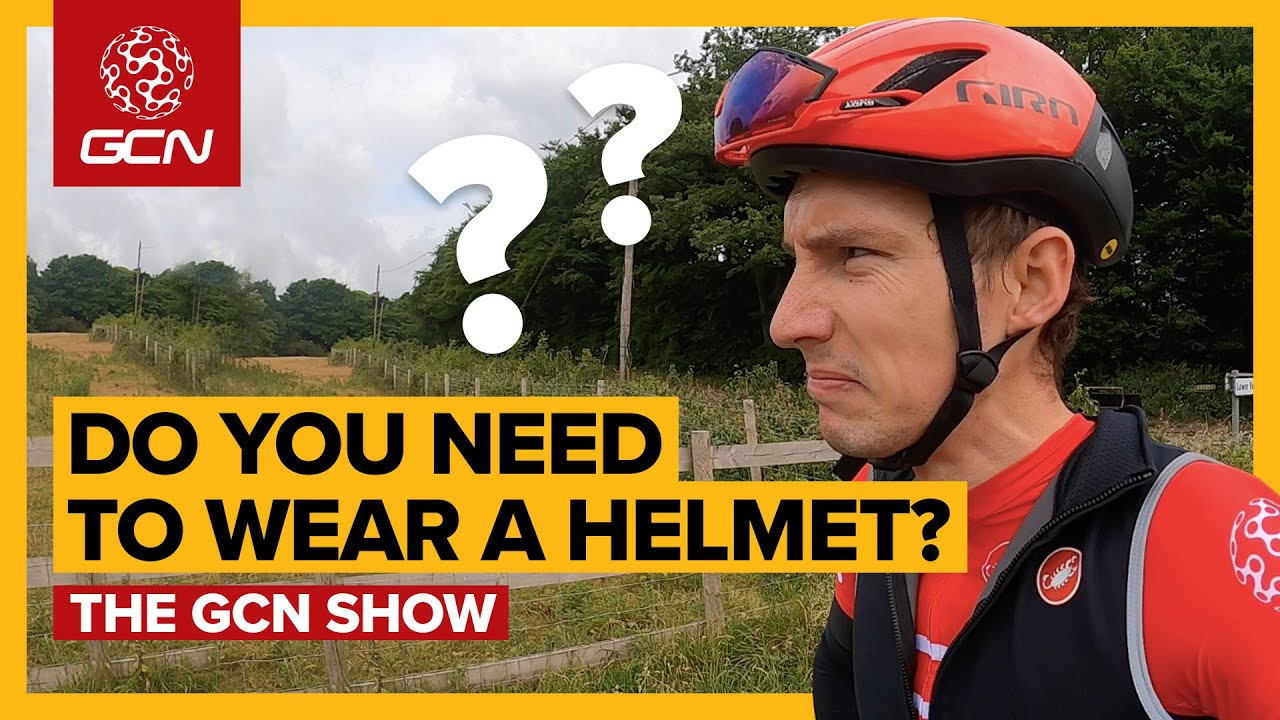helmet: (714, 17, 1136, 460)
